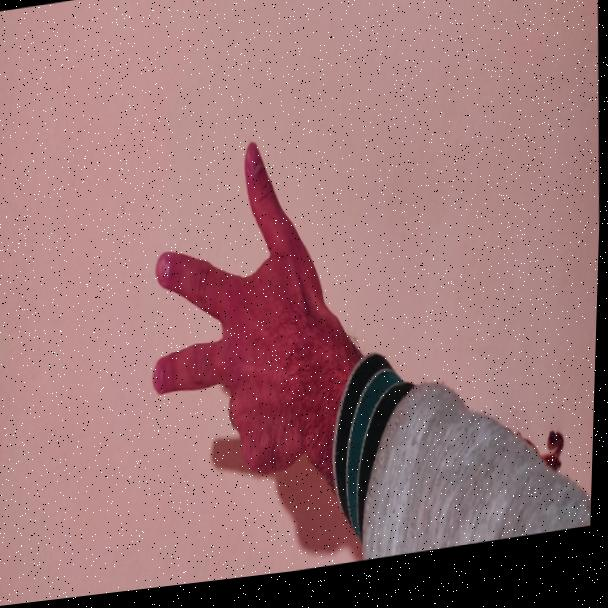three: (139, 129, 315, 502)
